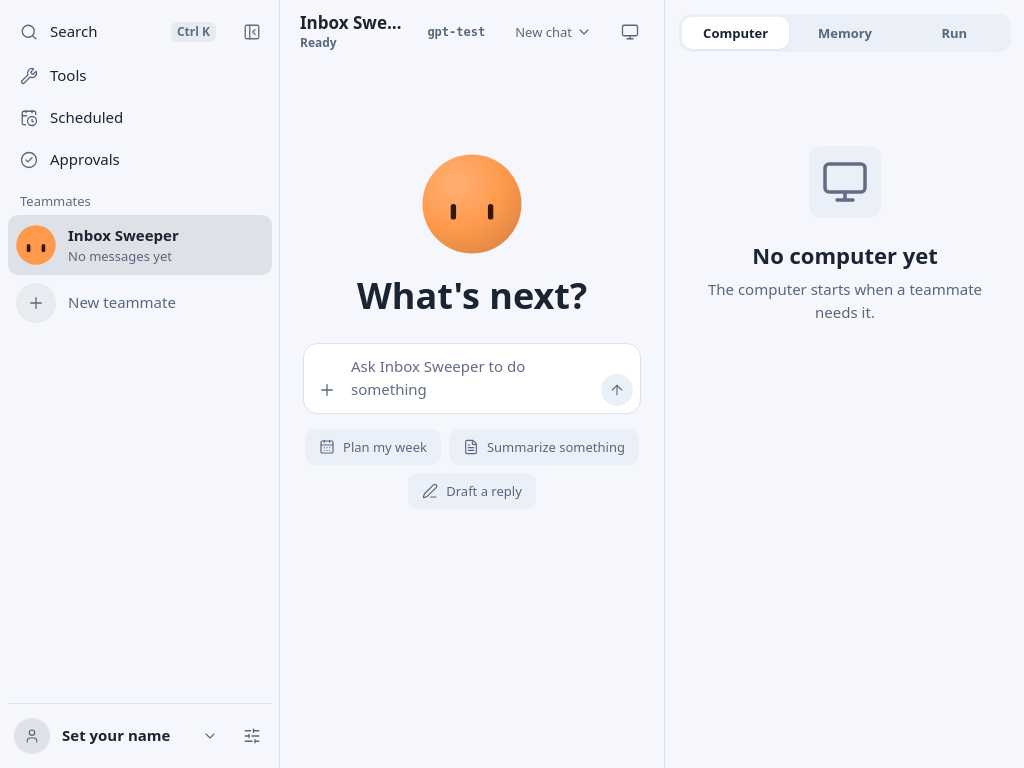
Scenario: composer › has a round send button that is disabled until there is text
Expected: the button named "Send" is disabled, [601,374,633,406]
Type "hi" into the text box named "Message Inbox Sweeper".
click(472, 378); type("hi")  # box [347,351,597,406]
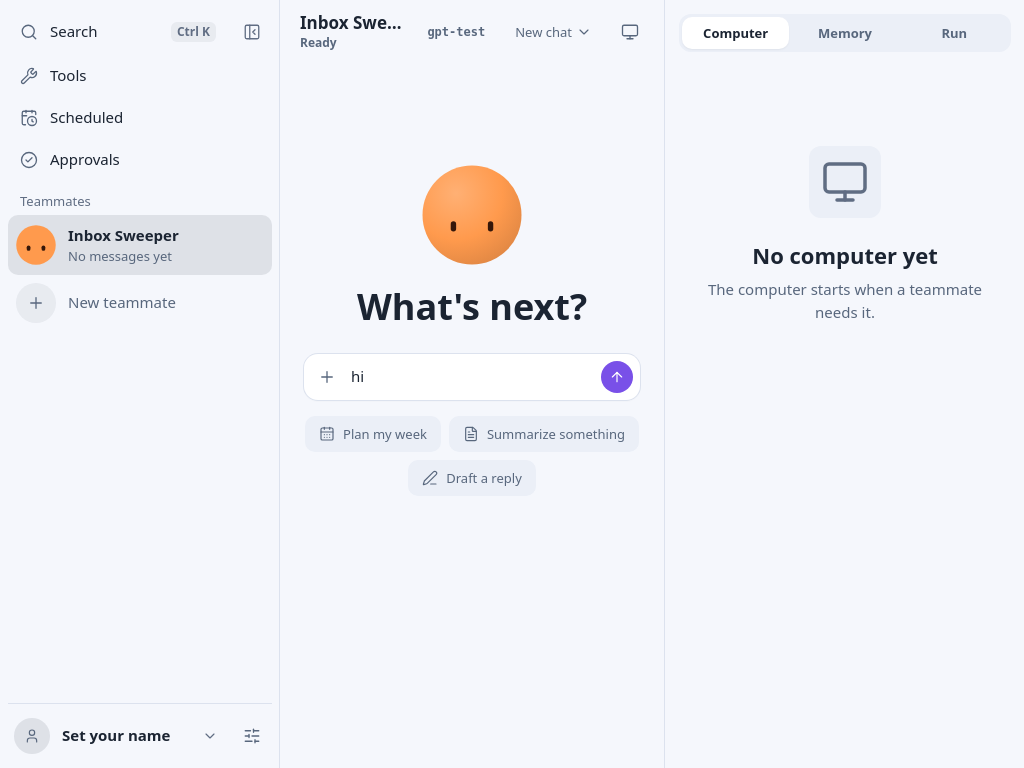
Expected: the button named "Send" is enabled, [601,361,633,393]
